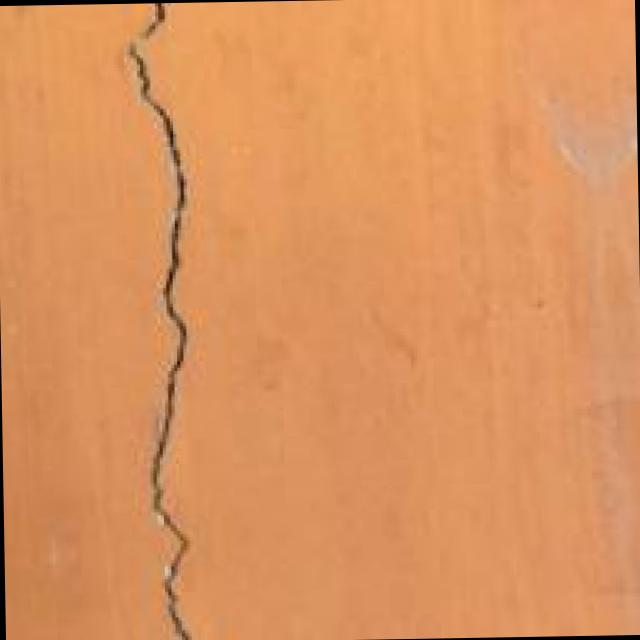crack: (68, 1, 262, 640)
